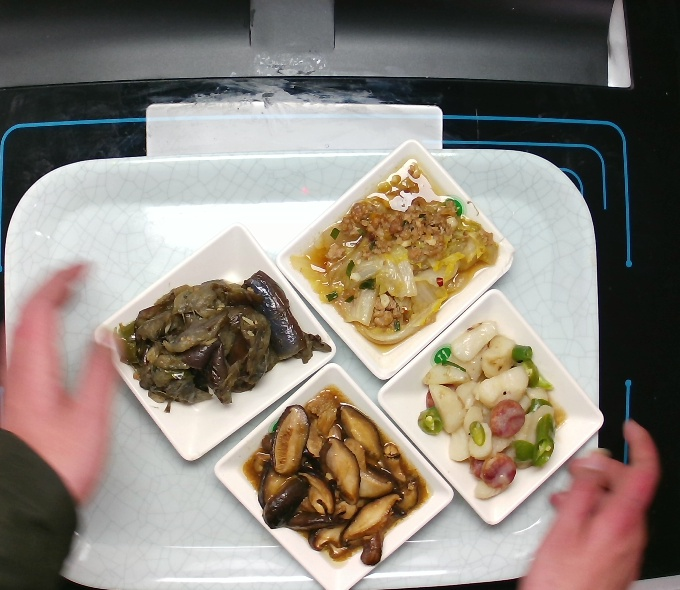wcq-MaTiGuo: (416, 319, 572, 511)
wcq-MoGu: (235, 383, 431, 571)
wcq-QieZi: (107, 262, 331, 409)
wcq-RouMoBaiCai: (288, 158, 502, 351)
